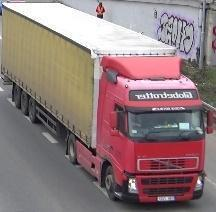truck: (3, 2, 215, 205)
